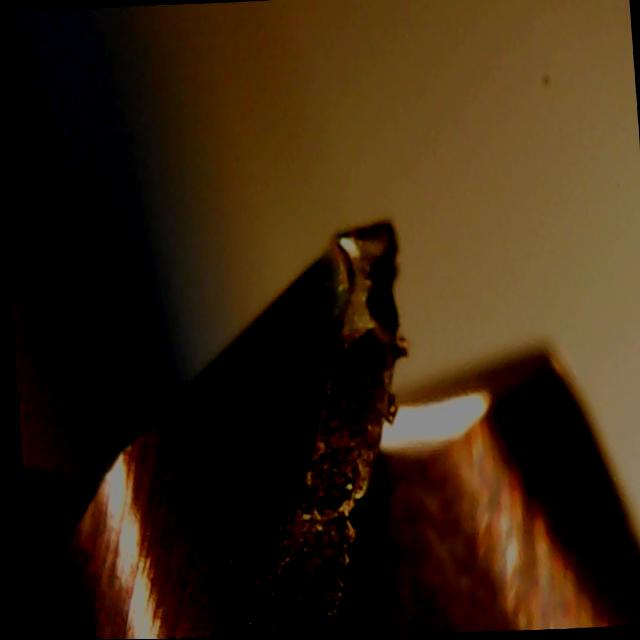Tool-wear-class-2: (273, 218, 426, 593)
